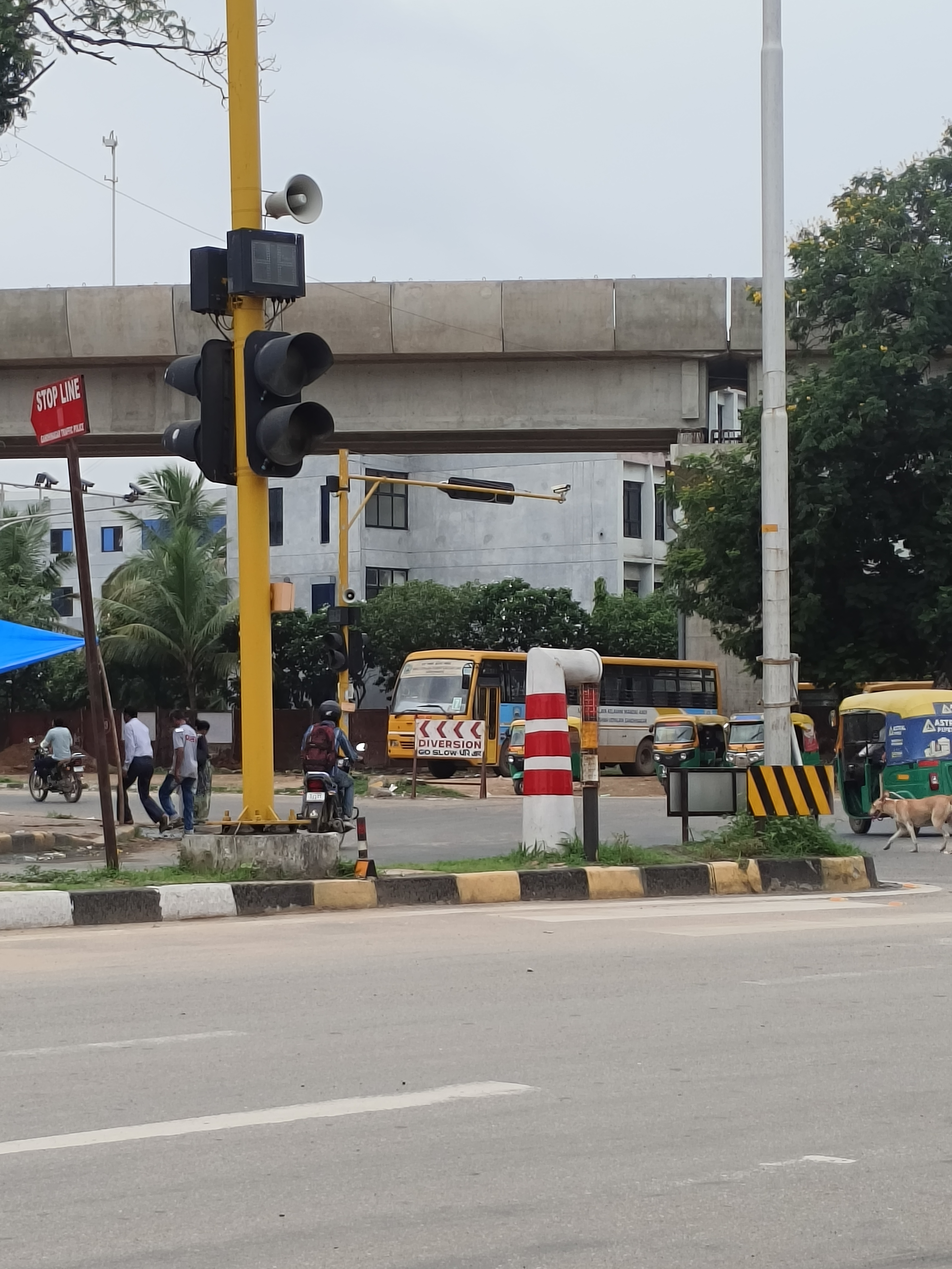BikeWithRider: (292, 693, 369, 847), (20, 715, 93, 807)
Helmet: (315, 695, 347, 728)
